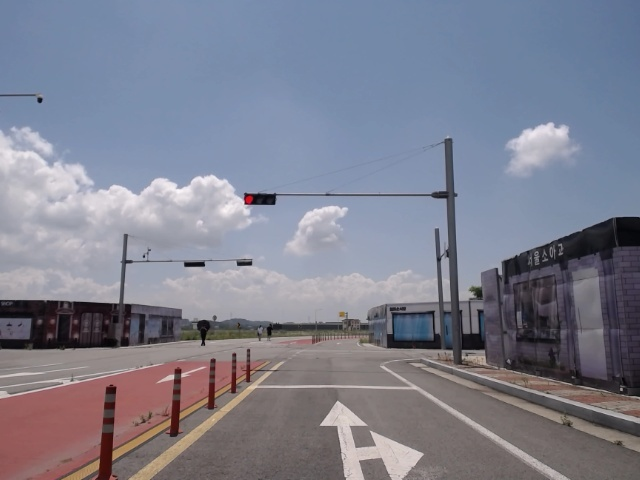red_3: (244, 194, 276, 207)
